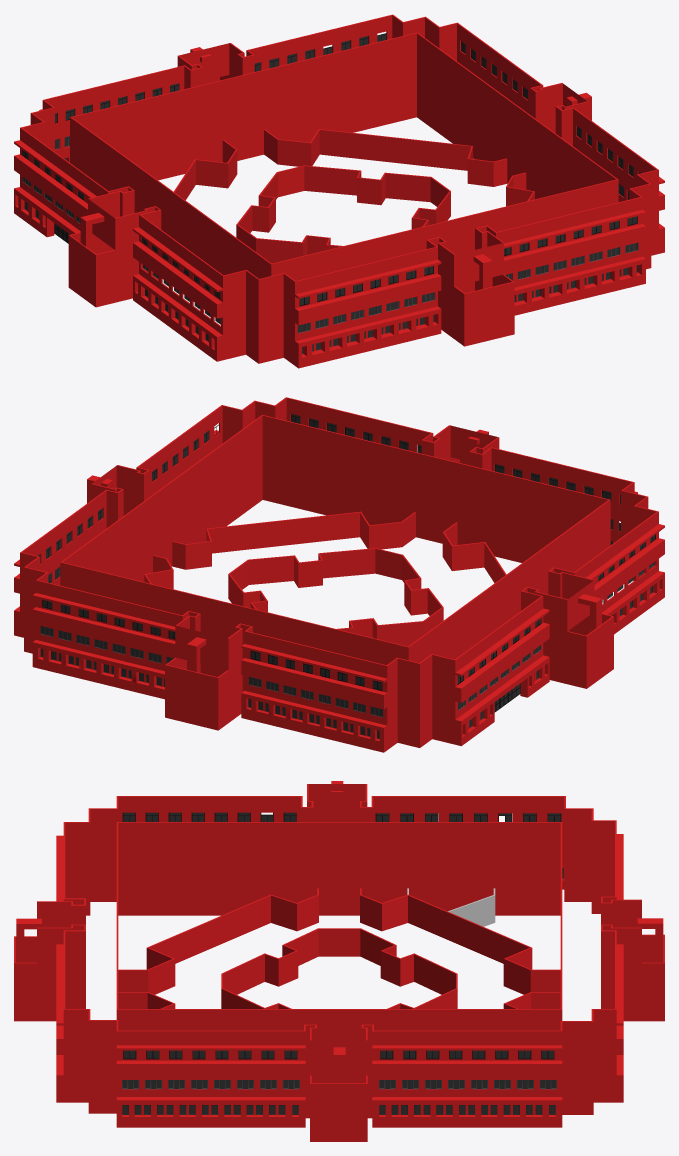
3 renders of one model, top to bottom at view 1: azimuth 30°, elevation 25°; view 2: azimuth 150°, elevation 25°; view 3: azimuth 270°, elevation 25°, orthographic. The views are drawn at different scales.
Parts seen in each view (by area): view 1: Screenshot (4546), Screenshot (4546).001, firstfloorwindor.009, firstfloorwindor.010, secfloorwindow.010, secfloorwindow.011, secfloorwindow.014, secfloorwindow.015, groundfloorwindor.010; view 2: Screenshot (4546), Screenshot (4546).001, firstfloorwindor.015, firstfloorwindor.014, secfloorwindow.015, groundfloorwindor.019, secfloorwindow.014, groundfloorwindor.017, secfloorwindow.011, secfloorwindow.010; view 3: Screenshot (4546), Screenshot (4546).001, firstfloorwindor.012, firstfloorwindor.013, groundfloorwindor.013, groundfloorwindor.015, secfloorwindow.013, secfloorwindow.012, secfloorwindow.009, secfloorwindow.008, Screenshot (4546).004.
Part boxes in pixels (<box>): Screenshot (4546): <box>14,14,664,368</box>; Screenshot (4546).001: <box>174,129,534,263</box>; firstfloorwindor.009: <box>297,292,434,333</box>; firstfloorwindor.010: <box>505,242,638,280</box>; secfloorwindow.010: <box>299,266,433,306</box>; secfloorwindow.011: <box>504,216,637,256</box>; secfloorwindow.014: <box>254,31,386,71</box>; secfloorwindow.015: <box>55,83,178,123</box>; groundfloorwindor.010: <box>514,267,628,302</box>; Screenshot (4546): <box>14,397,664,752</box>; Screenshot (4546).001: <box>144,511,506,646</box>; firstfloorwindor.015: <box>248,677,383,717</box>; firstfloorwindor.014: <box>40,626,173,663</box>; secfloorwindow.015: <box>250,650,382,690</box>; groundfloorwindor.019: <box>258,701,370,736</box>; secfloorwindow.014: <box>42,599,175,639</box>; groundfloorwindor.017: <box>51,651,164,686</box>; secfloorwindow.011: <box>291,414,421,453</box>; secfloorwindow.010: <box>495,464,620,504</box>; Screenshot (4546): <box>14,784,664,1141</box>; Screenshot (4546).001: <box>118,888,560,1008</box>; firstfloorwindor.012: <box>122,1080,299,1089</box>; firstfloorwindor.013: <box>379,1080,556,1089</box>; groundfloorwindor.013: <box>134,1105,285,1115</box>; groundfloorwindor.015: <box>391,1105,542,1114</box>; secfloorwindow.013: <box>380,1050,554,1059</box>; secfloorwindow.012: <box>123,1050,297,1059</box>; secfloorwindow.009: <box>122,812,296,821</box>; secfloorwindow.008: <box>375,813,561,821</box>; Screenshot (4546).004: <box>407,888,495,926</box>.
Bounding box in the file's own units: 7737 × 1220 × 7732.
